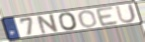7: (19, 17, 36, 36)
E: (95, 5, 121, 27)
N: (37, 13, 61, 35)
O: (58, 12, 80, 31), (78, 9, 99, 28)
U: (114, 3, 137, 24)
